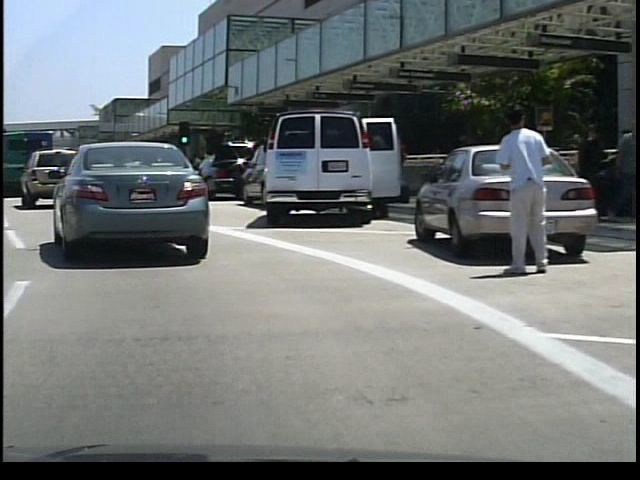person: (492, 102, 552, 278), (570, 117, 602, 225), (611, 116, 640, 221), (389, 130, 412, 204)
